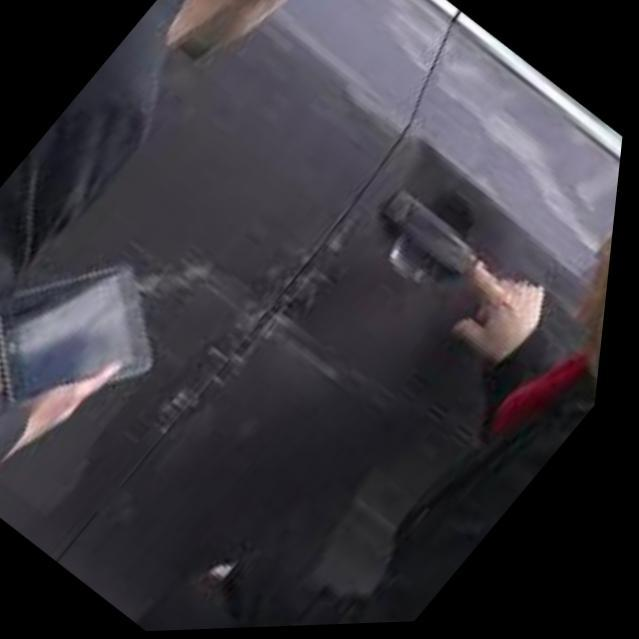rub: (140, 201, 361, 469)
